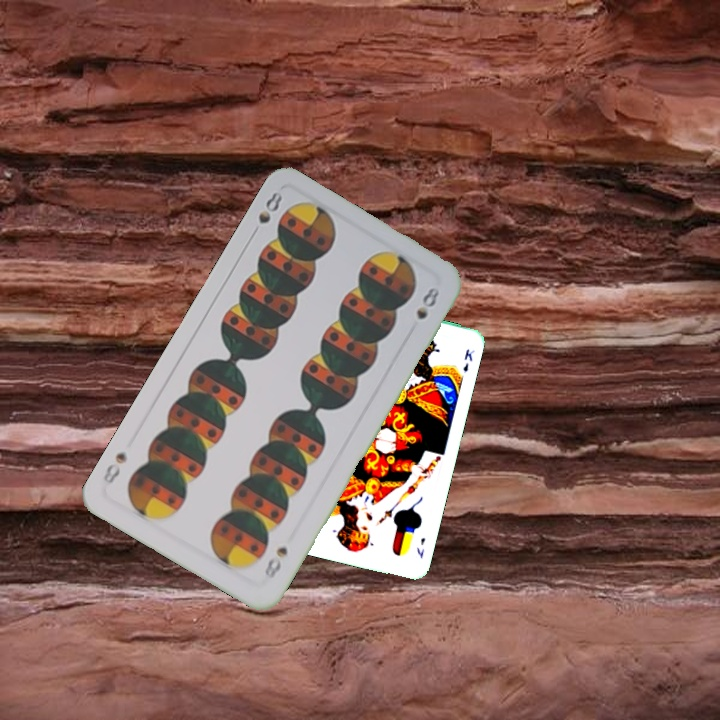EK: (413, 533, 428, 561)
S8: (246, 187, 285, 241), (260, 542, 290, 581)
